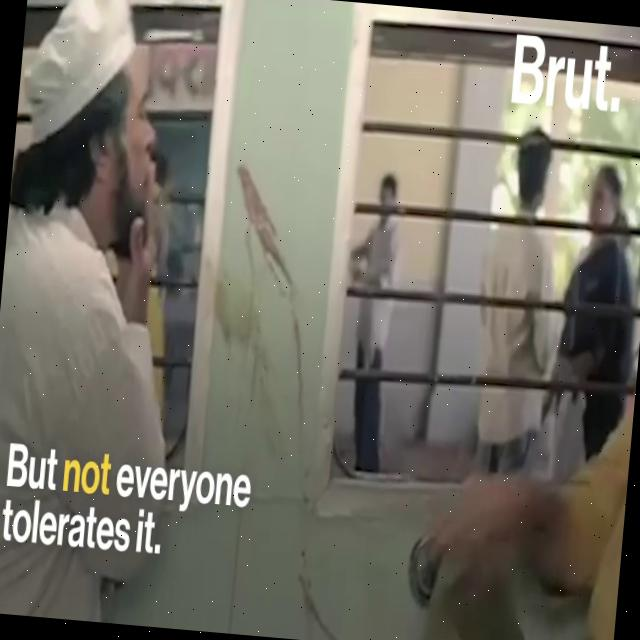spit: (133, 104, 335, 541)
